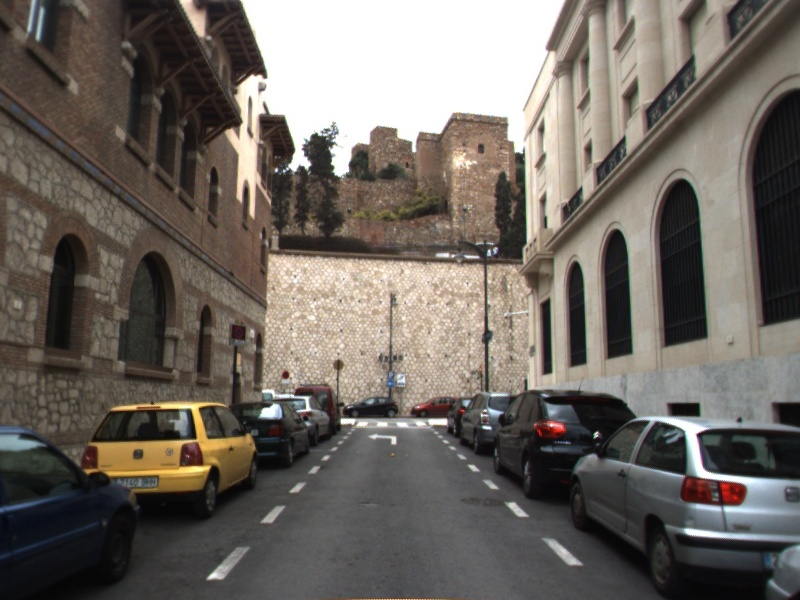LEFT: (366, 431, 399, 446)
